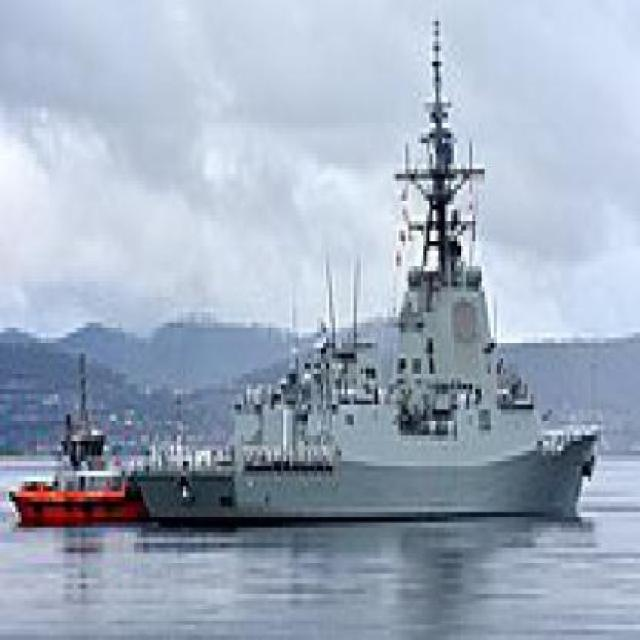warship2: (132, 1, 619, 544)
